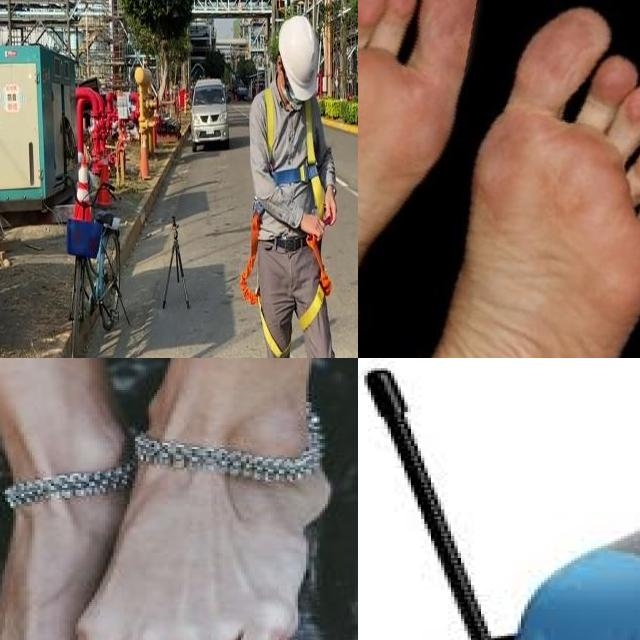Barefoots: (358, 0, 640, 358), (358, 0, 516, 358), (73, 461, 330, 640)
Harness: (239, 207, 333, 358), (267, 88, 325, 218)
